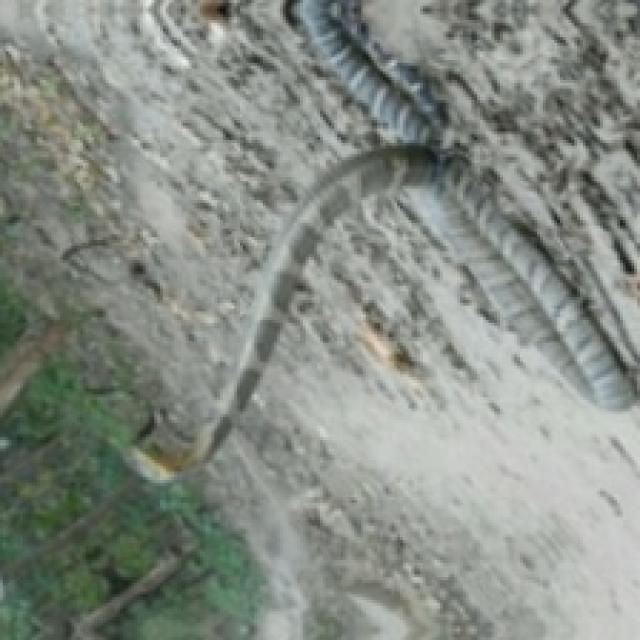king cobra: (174, 0, 637, 471)
